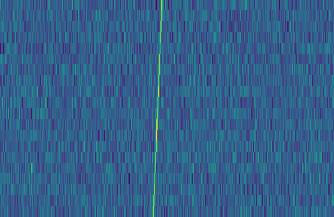signal: (148, 0, 165, 217)
